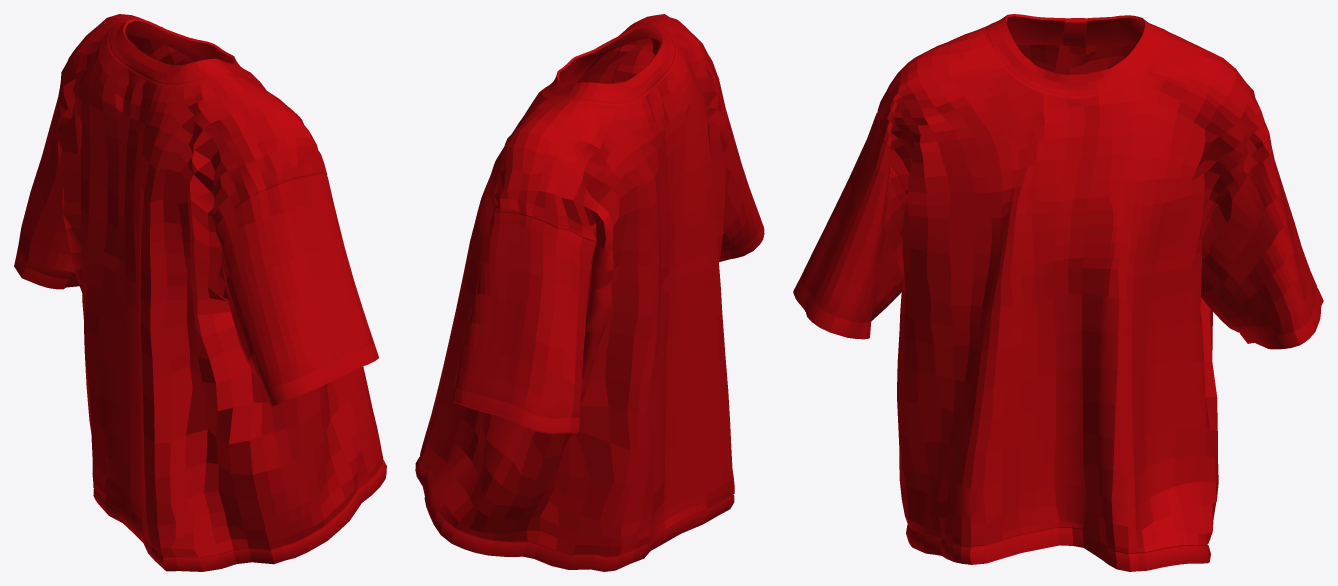
Rendered from tshirt-f-6811ea5cbf833.glb.
3 renders of one model, left to right at view 1: azimuth 30°, elevation 25°; view 2: azimuth 150°, elevation 25°; view 3: azimuth 270°, elevation 25°, orthographic. The views are drawn at different scales.
Visible parts, largest first — view 1: polySurface9; view 2: polySurface9; view 3: polySurface9.
Part boxes in pixels (x1,y1,x2,y2): polySurface9: [14, 14, 386, 571]; polySurface9: [415, 14, 764, 571]; polySurface9: [793, 14, 1323, 571].
Bounding box in the file's own units: 0.3632 × 0.7028 × 0.6618.
